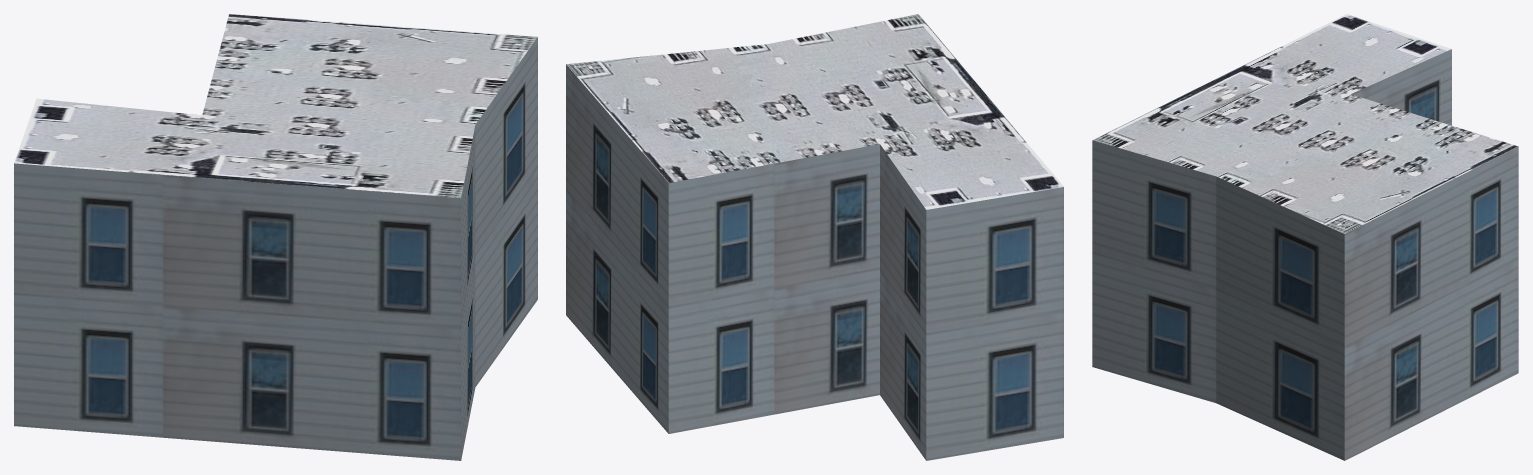
Rendered from ResTex__2176.fbx.
The picture shows the model from 3 angles, left to right: view 1: azimuth 30°, elevation 25°; view 2: azimuth 150°, elevation 25°; view 3: azimuth 270°, elevation 25°; orthographic projection. The views are drawn at different scales.
Visible parts, largest first — view 1: CityEngineMaterial_18_m, CityEngineMaterial_8_m; view 2: CityEngineMaterial_18_m, CityEngineMaterial_8_m; view 3: CityEngineMaterial_18_m, CityEngineMaterial_8_m.
Part boxes in pixels (x1,y1,x2,y2): CityEngineMaterial_18_m: (14, 37, 537, 460); CityEngineMaterial_8_m: (14, 14, 537, 198); CityEngineMaterial_18_m: (566, 64, 1063, 460); CityEngineMaterial_8_m: (566, 14, 1063, 209); CityEngineMaterial_18_m: (1092, 49, 1518, 460); CityEngineMaterial_8_m: (1093, 14, 1517, 233).
Bounding box in the file's own units: 12.49 × 6 × 10.21.
2 materials, 2 textured.
